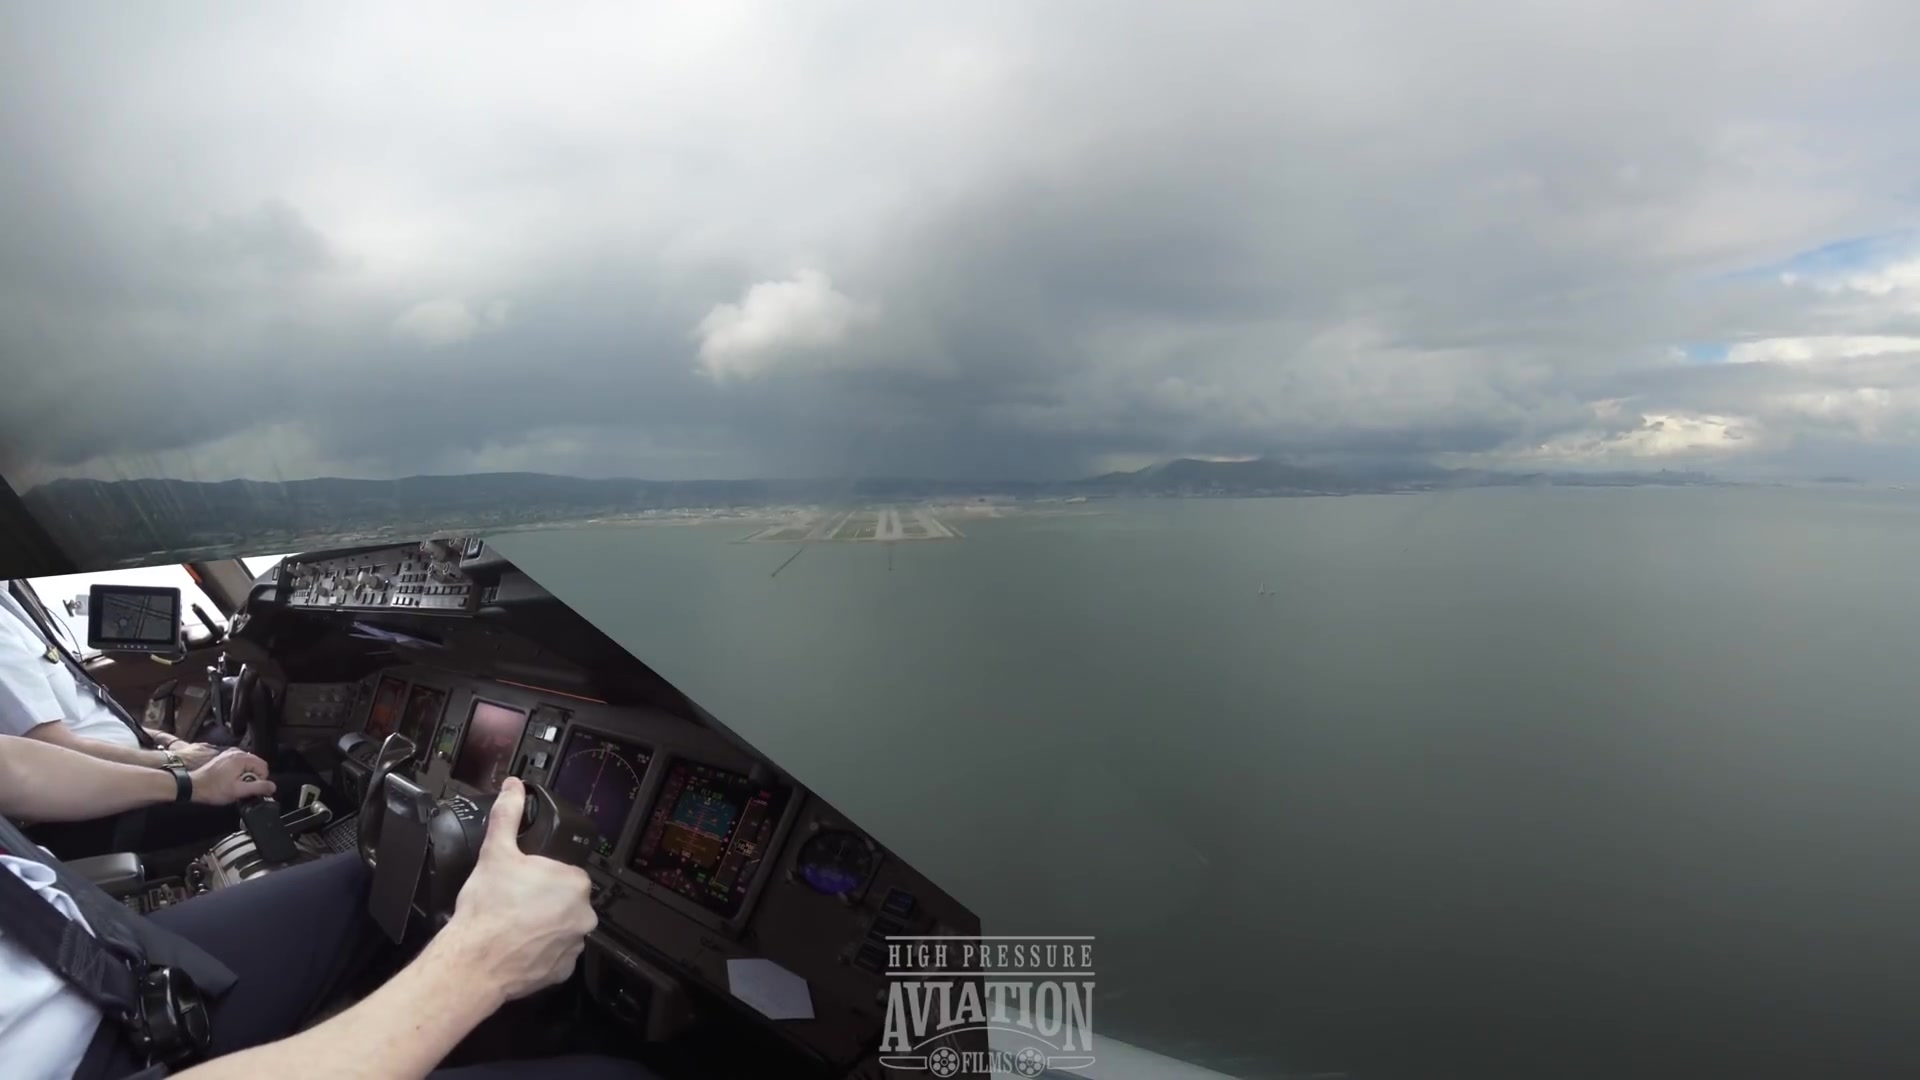runway: (804, 509, 858, 541), (909, 510, 957, 539), (872, 512, 905, 541)
